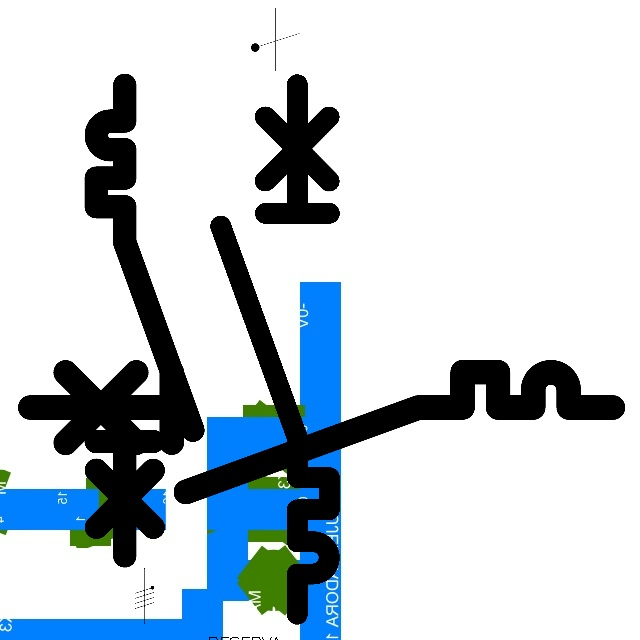interruptor_termomagnetico: (15, 357, 628, 507), (207, 71, 343, 628), (84, 73, 205, 568)
